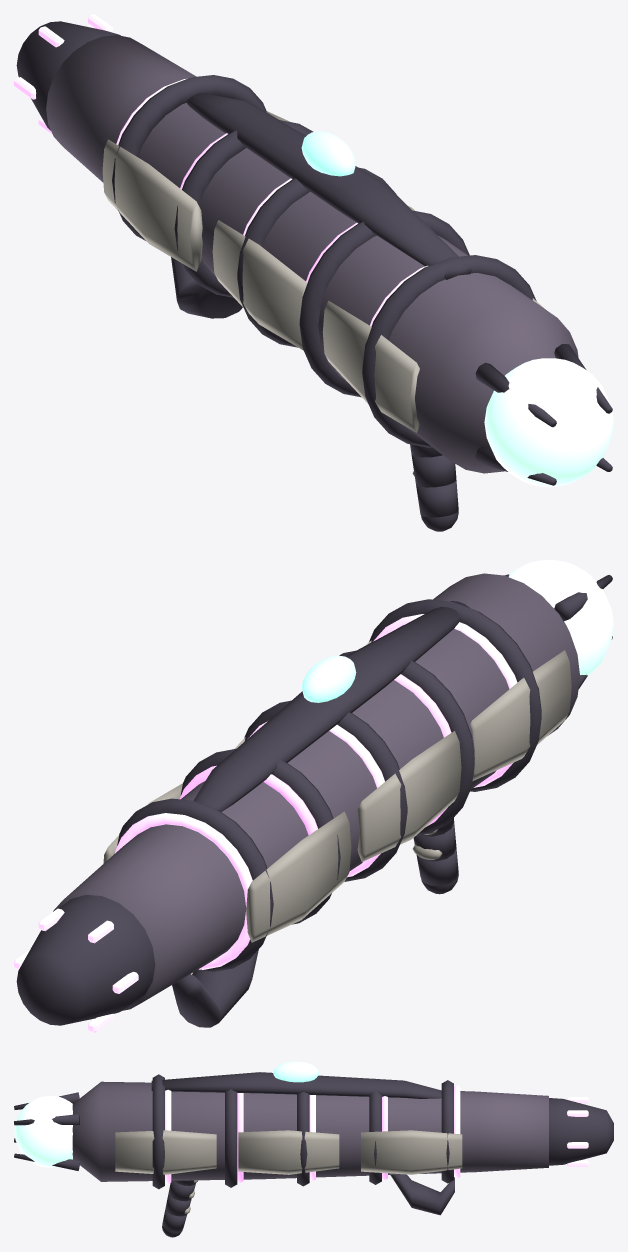
File: a_heavy.glb
The picture shows the model from 3 angles, top to bottom: view 1: azimuth 30°, elevation 25°; view 2: azimuth 150°, elevation 25°; view 3: azimuth 270°, elevation 25°; orthographic projection. The views are drawn at different scales.
Parts seen in each view (by area): view 1: A_heavy; view 2: A_heavy; view 3: A_heavy.
Boxes of the visible parts, x1,y1,x2,y2 form: A_heavy: [14, 14, 613, 531]; A_heavy: [14, 560, 613, 1032]; A_heavy: [14, 1061, 613, 1237].
Size of the model in its own units: 0.16 by 0.2659 by 0.8305.
